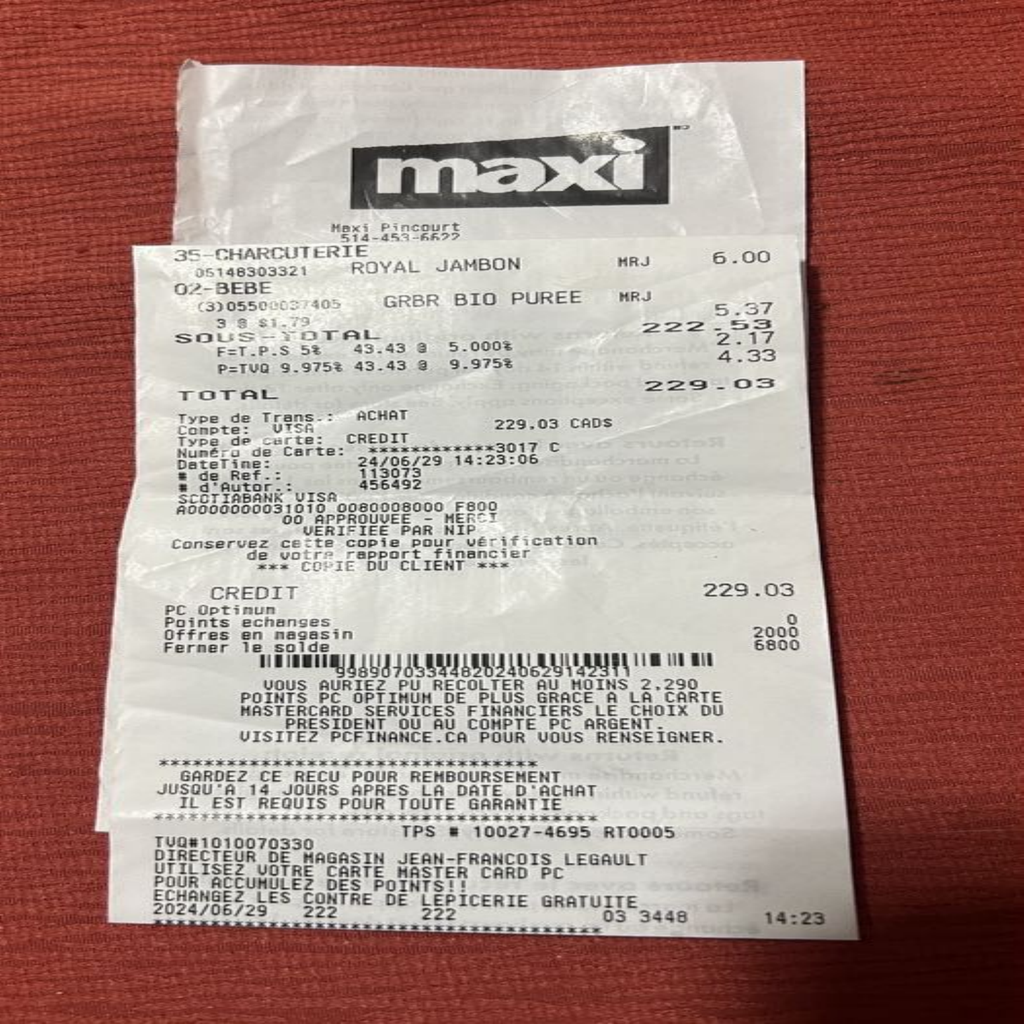recipt: (97, 53, 854, 940)
